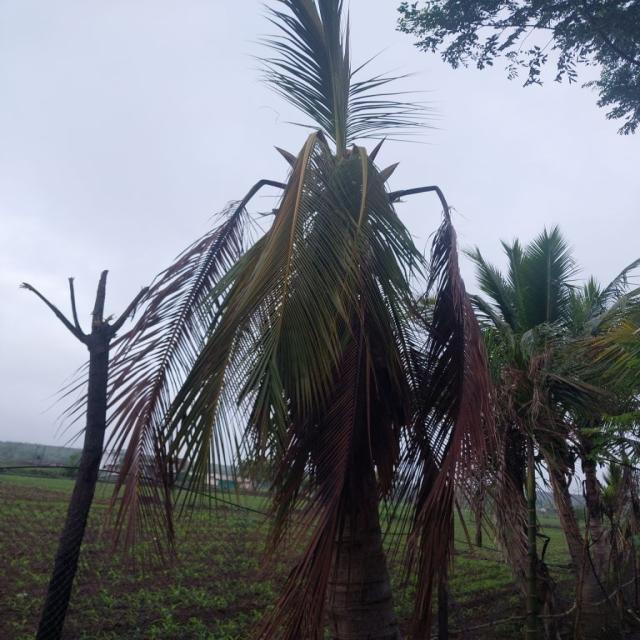bud root dropping: (110, 0, 488, 640)
